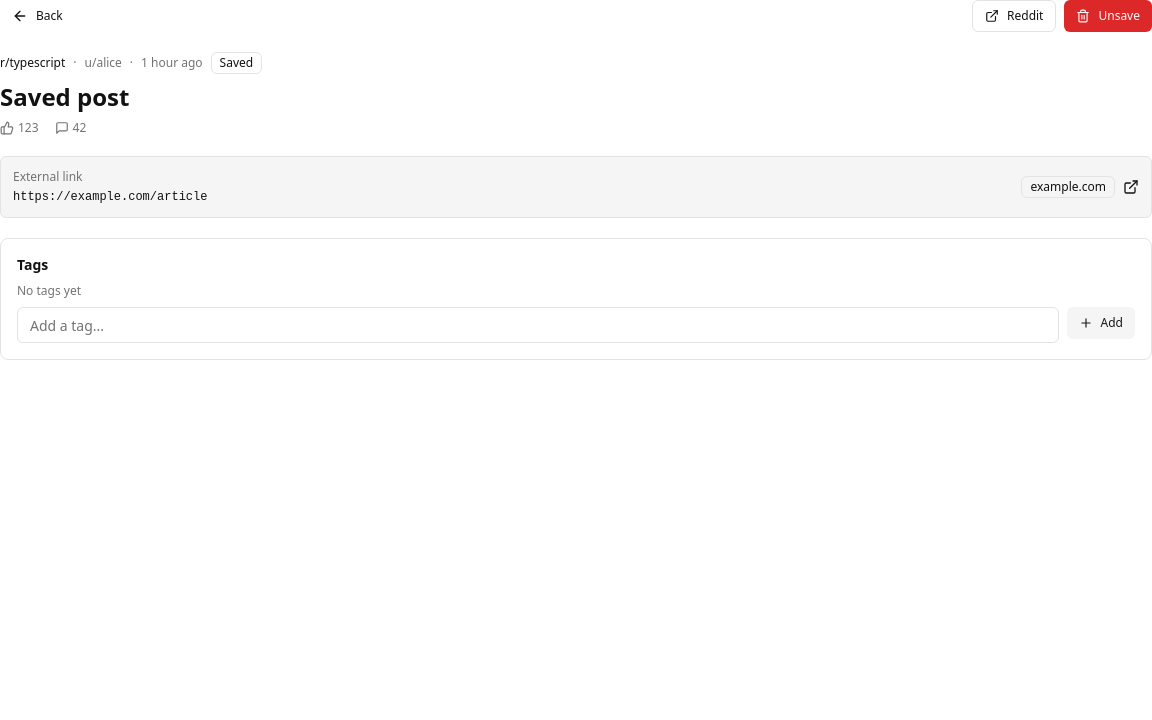
Test: PostPage unsave handling › stays on the post page when Reddit rejects the unsave
Expected: the heading "Saved post" is shown, x1=0 y1=80 x2=129 y2=113
Step 1. Click the button with test id "unsave-button" → (1108, 16), box x1=1064 y1=0 x2=1151 y2=32
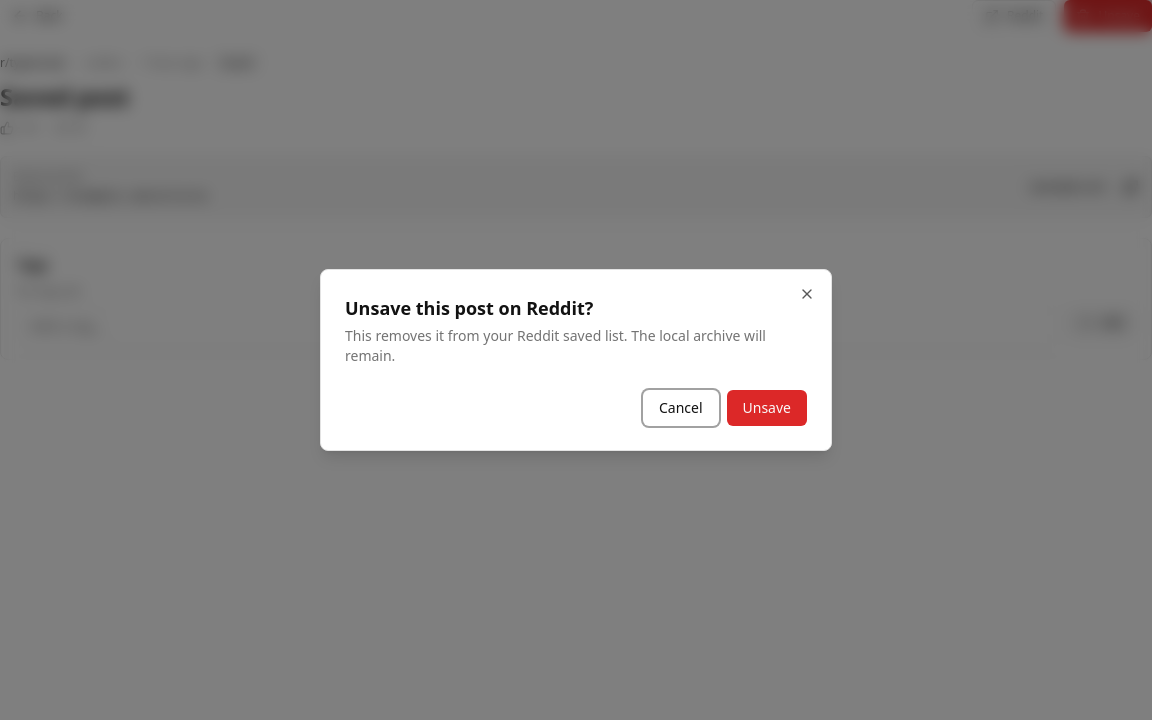
Now the dialog with test id "confirm-dialog" is shown, box x1=320 y1=269 x2=832 y2=451
Step 2. Click the button with test id "confirm-dialog-confirm" → (767, 408), box x1=726 y1=390 x2=807 y2=426
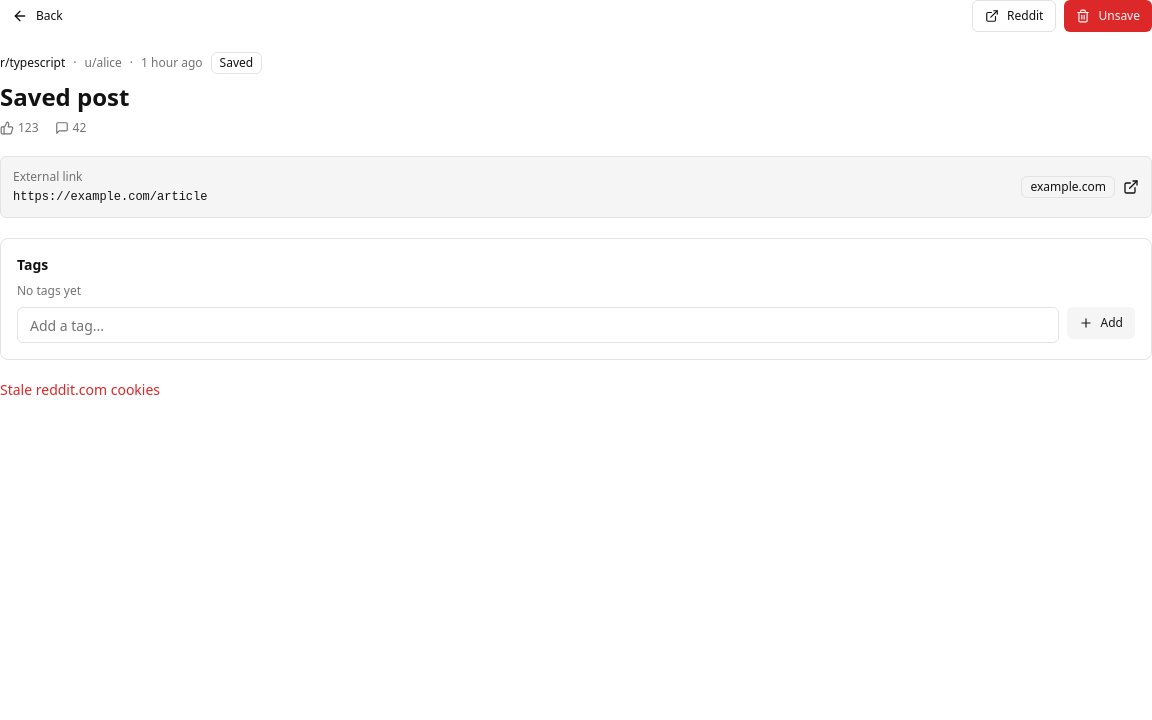
Expected: the element with test id "post-page" is shown, x1=0 y1=0 x2=1151 y2=400
Now the message reads "Stale reddit.com cookies", box x1=0 y1=380 x2=160 y2=399
